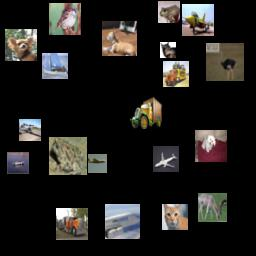airplane: (105, 204, 140, 239), (182, 4, 214, 36), (153, 146, 179, 172), (19, 119, 41, 141), (88, 154, 107, 173)
bird: (206, 43, 244, 81), (49, 3, 81, 35)
cat: (162, 204, 188, 230)
deer: (198, 193, 227, 222)
dog: (102, 21, 137, 56), (5, 29, 37, 61), (195, 130, 227, 162), (160, 42, 176, 58)
frog: (49, 137, 87, 175), (158, 1, 180, 23)
ship: (42, 53, 68, 79), (7, 152, 29, 174)
truck: (130, 97, 162, 129), (56, 208, 88, 240), (163, 61, 189, 87)
